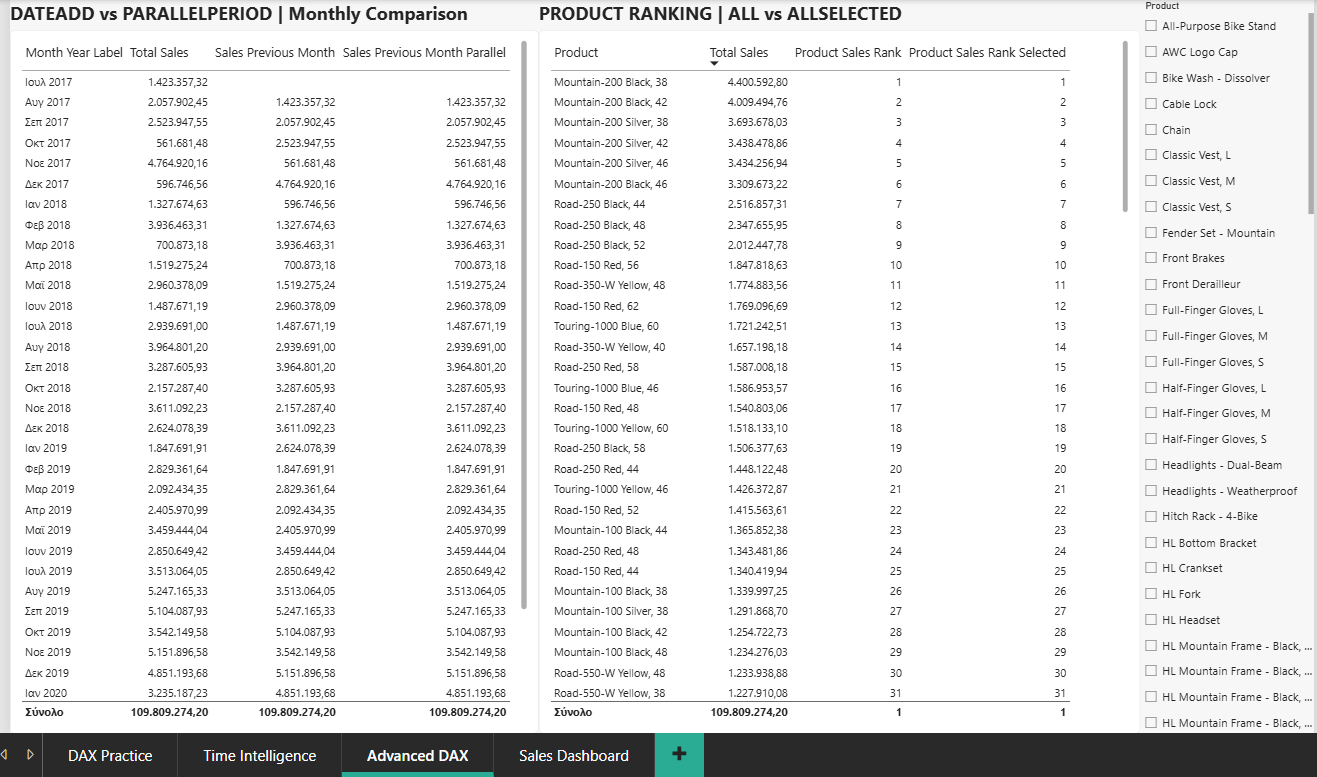

This screenshot's page, from the dashboard's own definition file:
{"tool":"powerbi","page":{"name":"Advanced DAX","canvas":[1920,1080],"ordinal":2},"visuals":[{"type":"tableEx","fields":{"Values":["Date.Month Year Label","Sales.Total Sales","Sales.Sales Previous Month","Sales.Sales Previous Month Parallel"]},"box":[0,44.2,778.5,1036.2],"z":0},{"type":"tableEx","fields":{"Values":["Product.Product","Sales.Total Sales","Sales.Product Sales Rank","Sales.Product Sales Rank Selected"]},"box":[778.5,44.2,885.3,1036.2],"z":1000},{"type":"slicer","fields":{"Values":["Product.Product"]},"box":[1663.8,0,255.8,1080.4],"z":2000},{"type":"textbox","box":[0,0,857.7,44.2],"z":2001},{"type":"textbox","box":[778.5,0,854,44.2],"z":2002}]}

Visuals, with their boxes on the page's 1920x1080 design canvas (x1, y1, x2, y2). These are canvas units, not pixel positions in the 1317x777 screenshot, which may show the page scaled, cropped or inside an application window:
tableEx - Date.Month Year Label x Sales.Total Sales: box=[0, 44, 778, 1080]
tableEx - Product.Product x Sales.Total Sales: box=[778, 44, 1664, 1080]
slicer - Product.Product: box=[1664, 0, 1920, 1080]
textbox: box=[0, 0, 858, 44]
textbox: box=[778, 0, 1632, 44]
